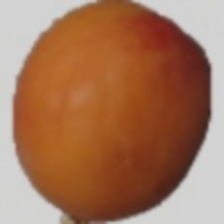apricot: (15, 49, 215, 215)
